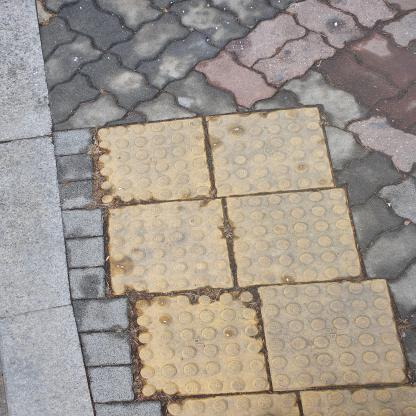podotacti: (76, 96, 415, 415)
